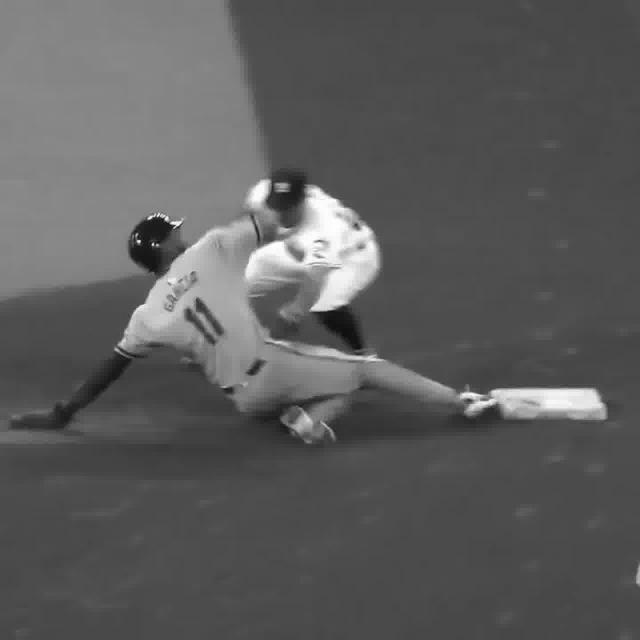base: (497, 388, 604, 422)
baseball_glove: (266, 316, 300, 338)
shoe: (280, 408, 332, 443), (460, 388, 497, 417)
